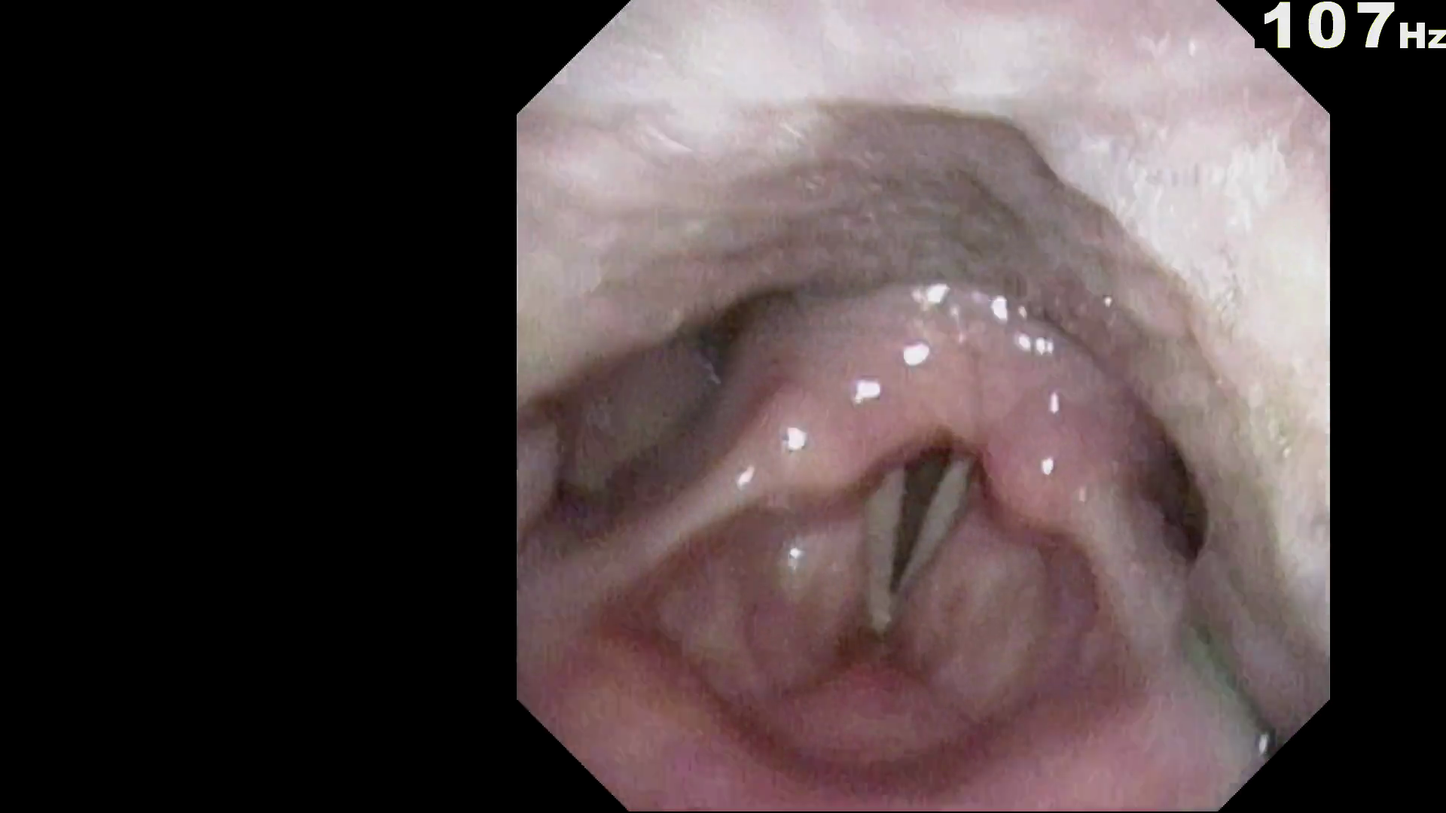trachea: (842, 408, 1001, 627)
